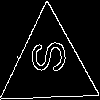S: (24, 40, 66, 75)
